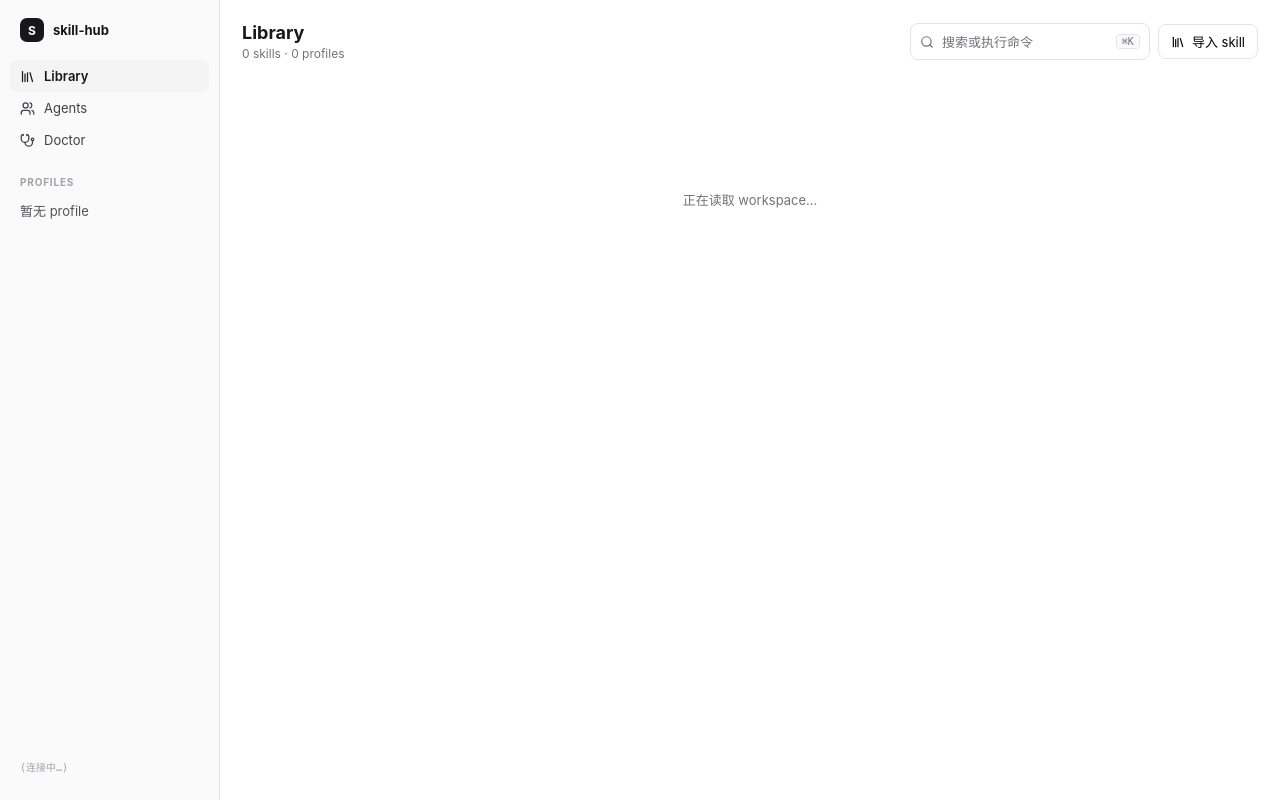
Wave 6 scan local agents › shows an empty state when no unmanaged candidates exist
Click the button "Agents".
click(110, 108)  # box [10, 92, 209, 124]
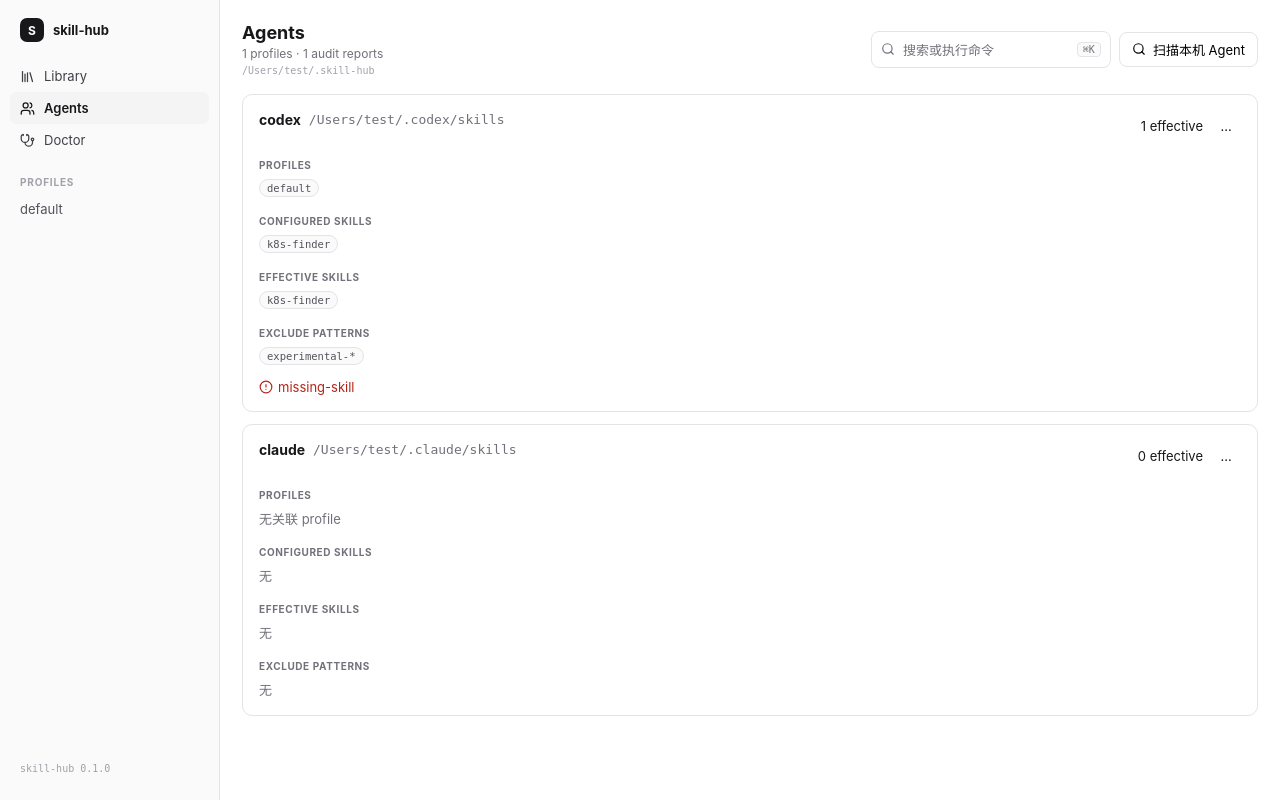
Click the button "扫描本机 Agent".
click(1188, 49)  # box [1119, 32, 1258, 66]
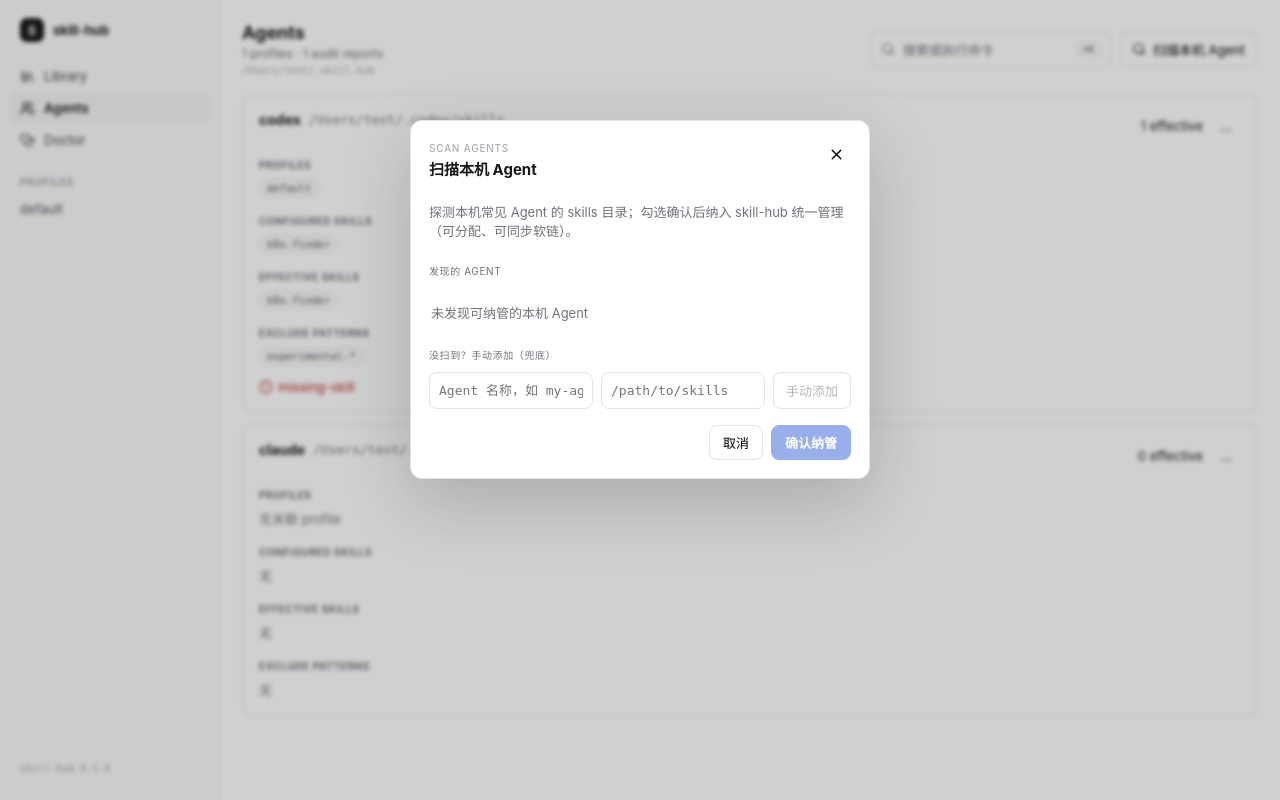
Check: the text "未发现可纳管的本机 Agent" is shown, box [431, 305, 588, 321]
